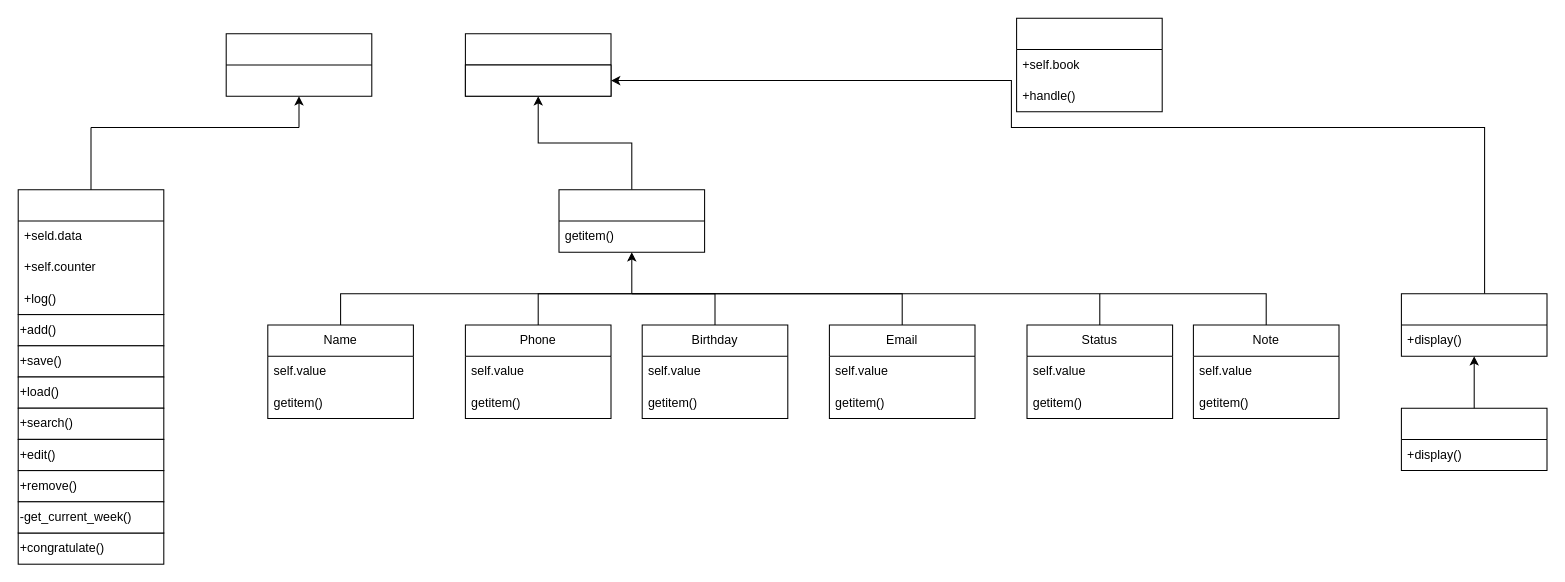
Image size: 1565x582. Some labels were removed from this diagram. The shapes that lost their labels are listed below. From the top down, each one's box as (x1, y1, x2, y2) in pixels, then its label:
(225, 33, 372, 96): UserDict
(464, 33, 611, 96): ABC
(1016, 17, 1162, 112): Bot
(558, 189, 705, 252): Field
(17, 189, 164, 315): AdressBook
(1400, 293, 1547, 356): UserInterface
(1400, 407, 1547, 471): ConsoleInterface
